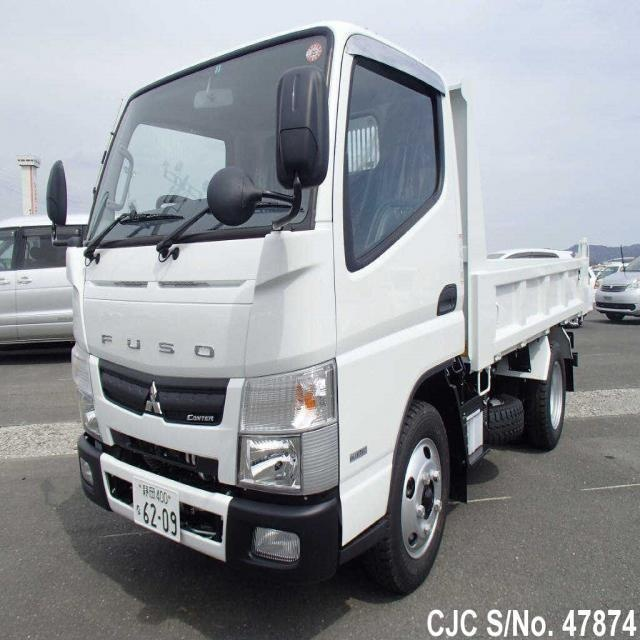Truck: (45, 21, 587, 584)
